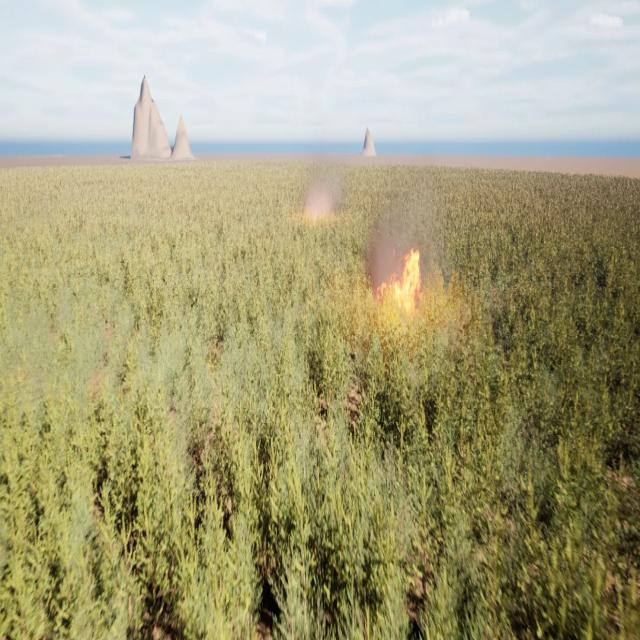fire: (377, 246, 428, 298)
smoke: (366, 204, 426, 306), (300, 168, 344, 224)
